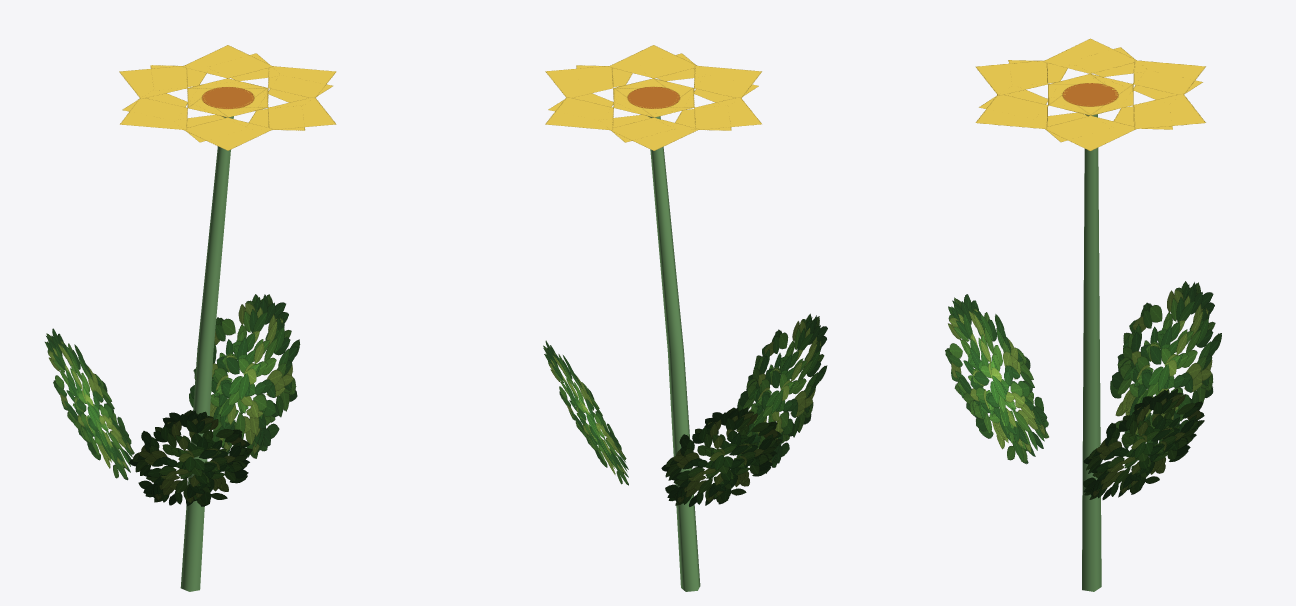
File: flower_yellow.glb
3 views of the same model, side by side, from view 1: azimuth 30°, elevation 25°; view 2: azimuth 150°, elevation 25°; view 3: azimuth 270°, elevation 25° (orthographic). The views are drawn at different scales.
Visible parts, largest first — view 1: flower_yellow; view 2: flower_yellow; view 3: flower_yellow.
Part boxes in pixels (bbox=[...]): flower_yellow: bbox=[45, 45, 336, 591]; flower_yellow: bbox=[543, 45, 827, 591]; flower_yellow: bbox=[945, 38, 1221, 591].
Bounding box in the file's own units: 0.409 × 0.55 × 0.3727.
3 materials, 2 textured.
